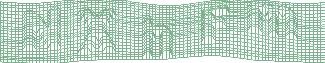F: (199, 4, 231, 47)
N: (21, 6, 62, 52)
X: (76, 8, 120, 56)
h: (141, 15, 176, 60)
m: (245, 1, 301, 42)
